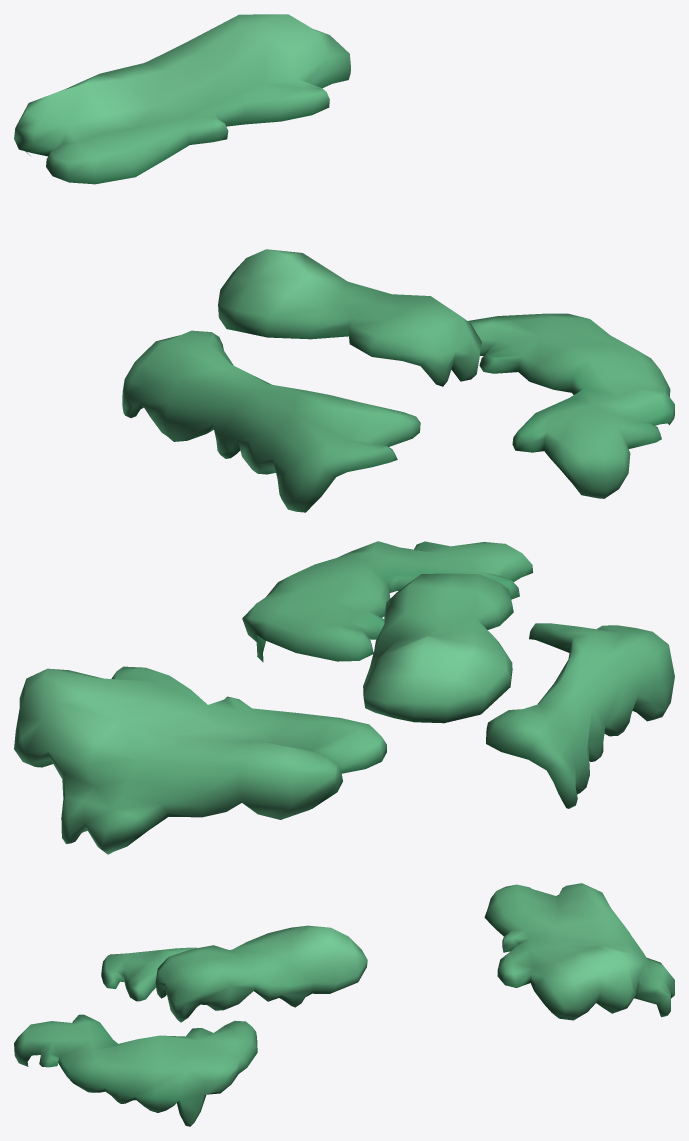
File: WaterRockASeaweed.glb
The picture shows the model from 3 angles, top to bottom: view 1: azimuth 30°, elevation 25°; view 2: azimuth 150°, elevation 25°; view 3: azimuth 270°, elevation 25°; orthographic projection. The views are drawn at different scales.
Parts seen in each view (by area): view 1: WaterRockASeaweed; view 2: WaterRockASeaweed; view 3: WaterRockASeaweed.
Part boxes in pixels (<box>): WaterRockASeaweed: <box>14,14,674,512</box>; WaterRockASeaweed: <box>14,541,674,854</box>; WaterRockASeaweed: <box>14,883,674,1126</box>.
Size of the model in its own units: 5.22 by 2.37 by 9.6.
